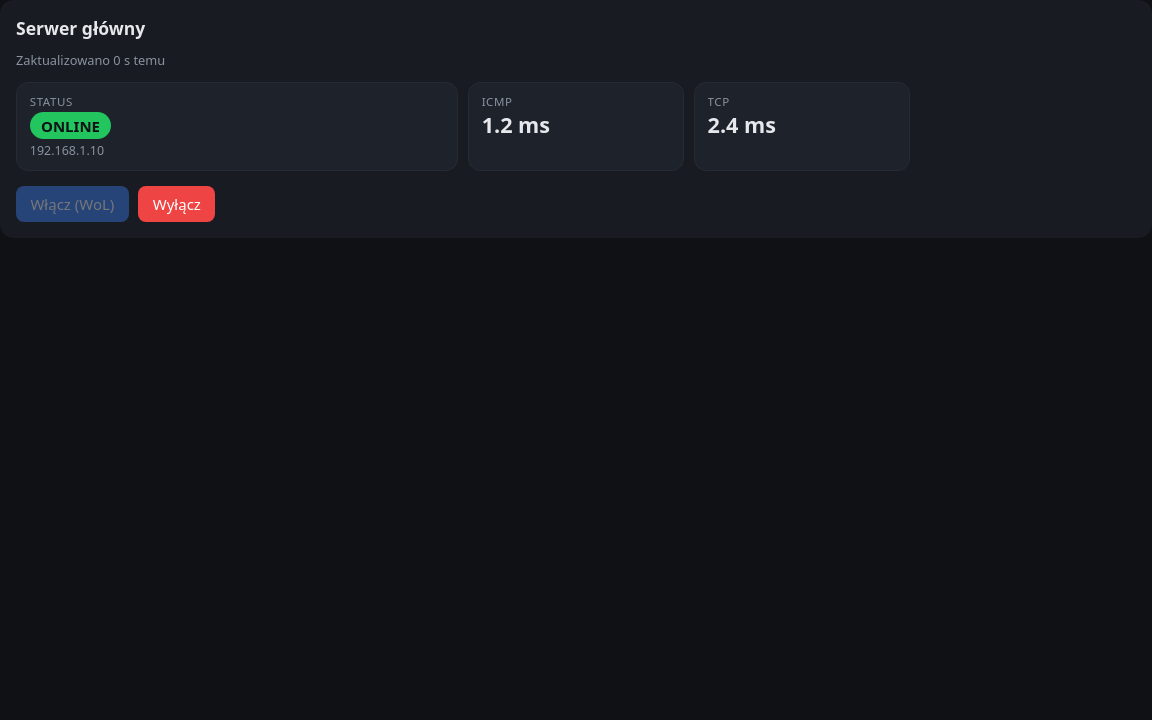
it: StatusCard: wyłączanie przez ConfirmDialog › Anuluj zamyka okno i niczego nie wysyła
The width and height of the screenshot is (1152, 720).
Expected: the text "ONLINE" is shown, top-left (30, 112), bottom-right (111, 139)
Click the button "Wyłącz" at x=177, y=204, box top-left (138, 186), bottom-right (215, 222)
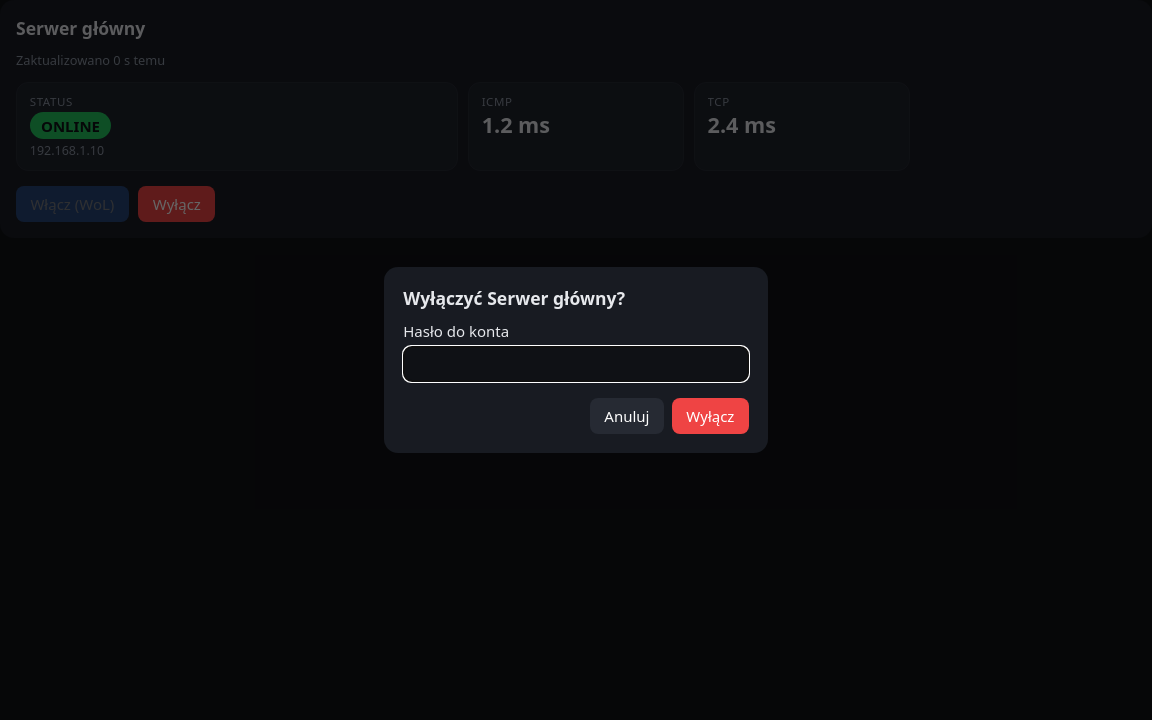
Click the button "Anuluj" at x=627, y=416, box top-left (590, 398), bottom-right (664, 434)
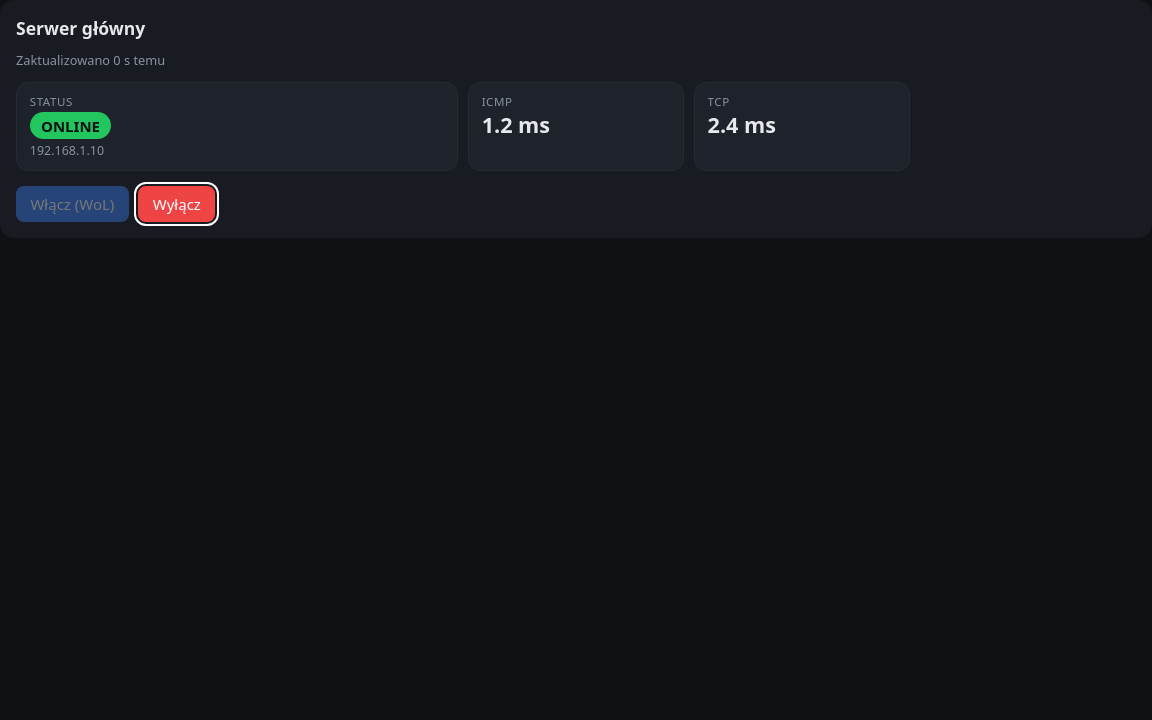
Expected: the dialog is gone
